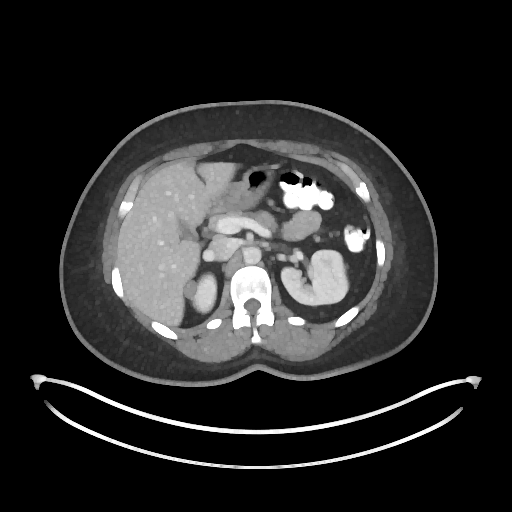Lesion: (185, 276, 198, 301)
